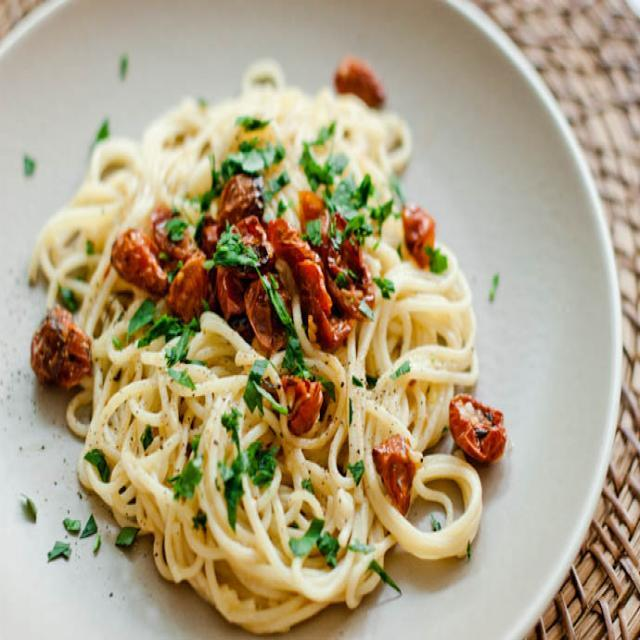Oil pasta: (47, 78, 510, 640)
